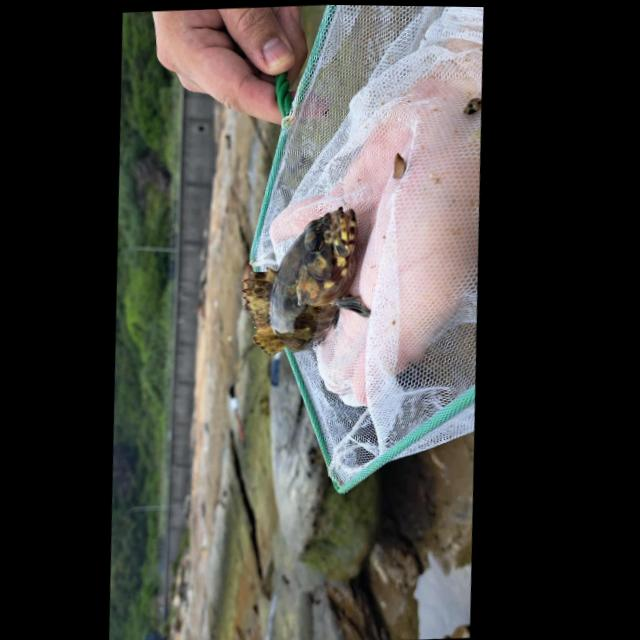Groupers: (232, 202, 382, 358)
